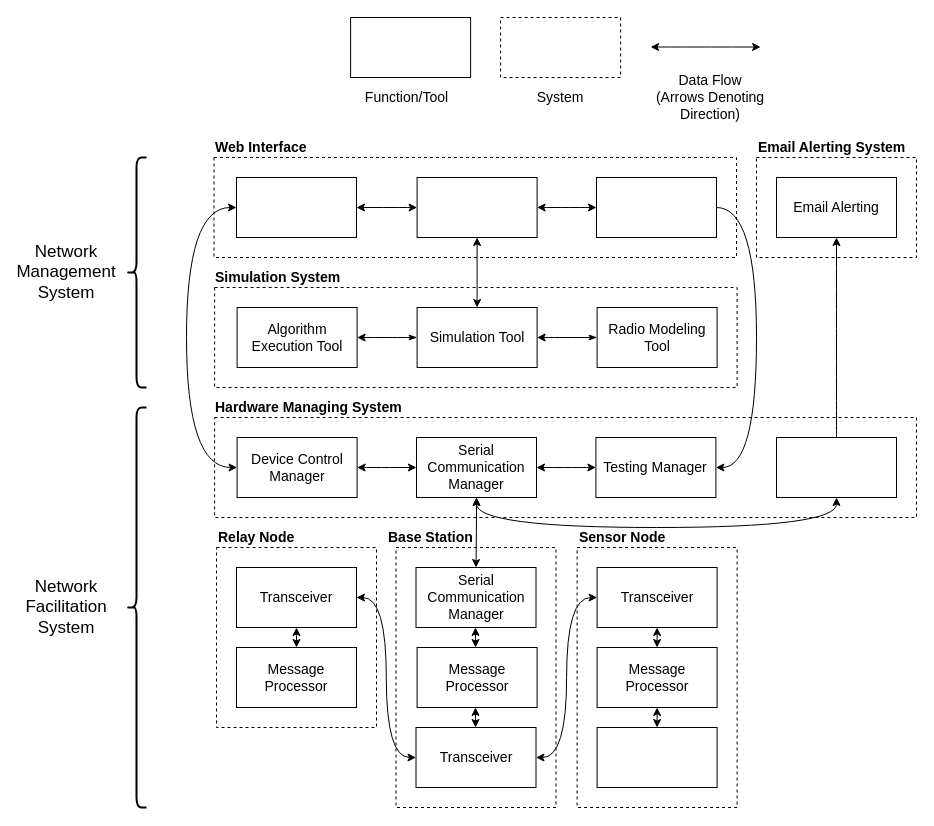
Image size: 934x826. Some labels were removed from this diagram. The shapes that lost their labels are listed below. From the top down, each one's centre as x and y in pixels, then its label:
point (296, 207): Network Control/Monitoring Tool
point (476, 207): Network Assembly Tool
point (656, 207): Network Testing Tool
point (836, 467): Alerting
point (656, 757): Sensor Data Aquisition
